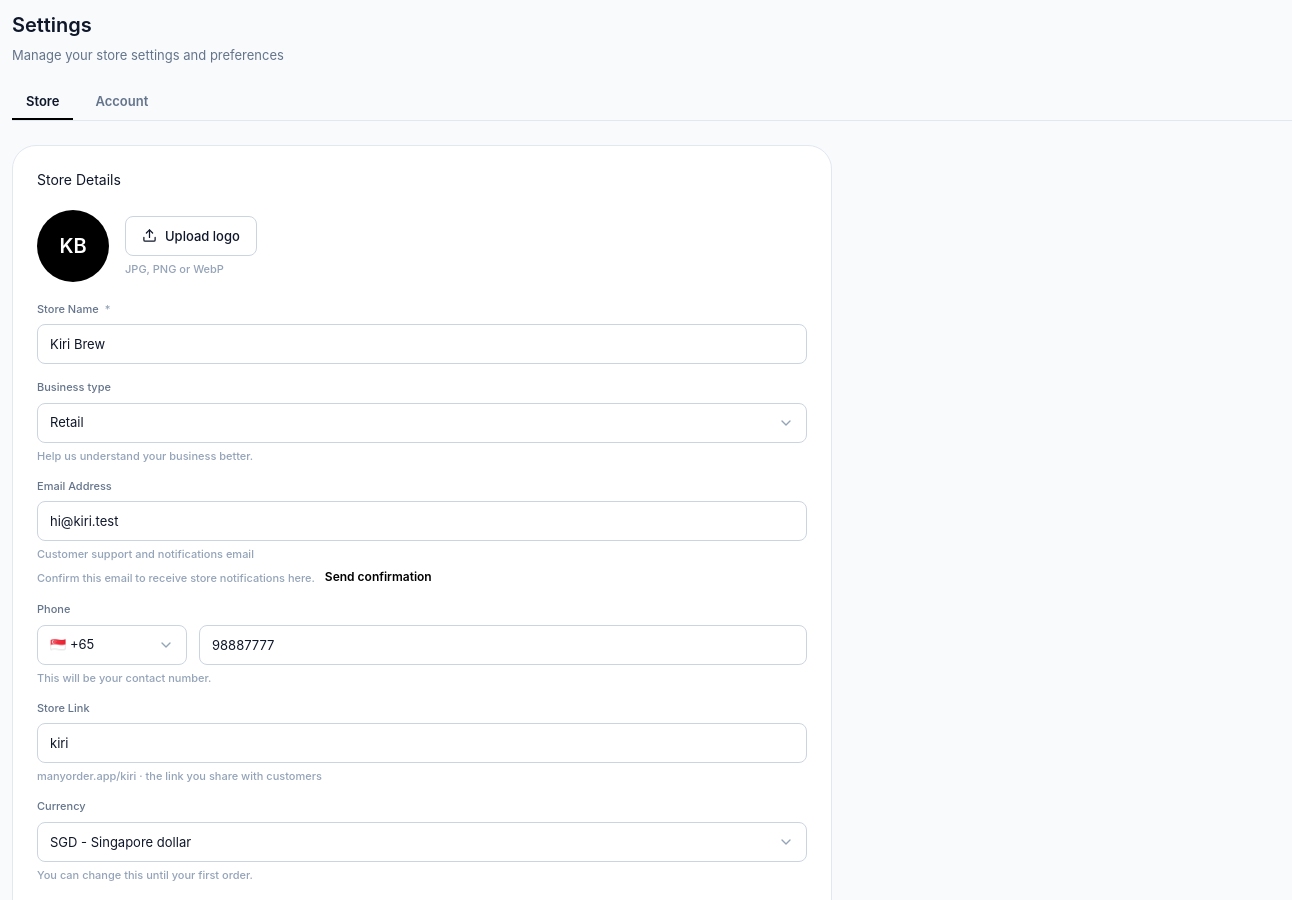
Settings store fields › store email: not verified prompts to confirm, then shows sent copy with a resend countdown
The image size is (1292, 900).
Expected: the field showing "Kiri Brew" below "Store Name" is shown, 37,324 -> 807,364
Expected: the text "Confirm this email to receive store notifications here." is shown, 37,571 -> 315,585
Click the button "Send confirmation" at (378, 578), box 325,570 -> 432,586
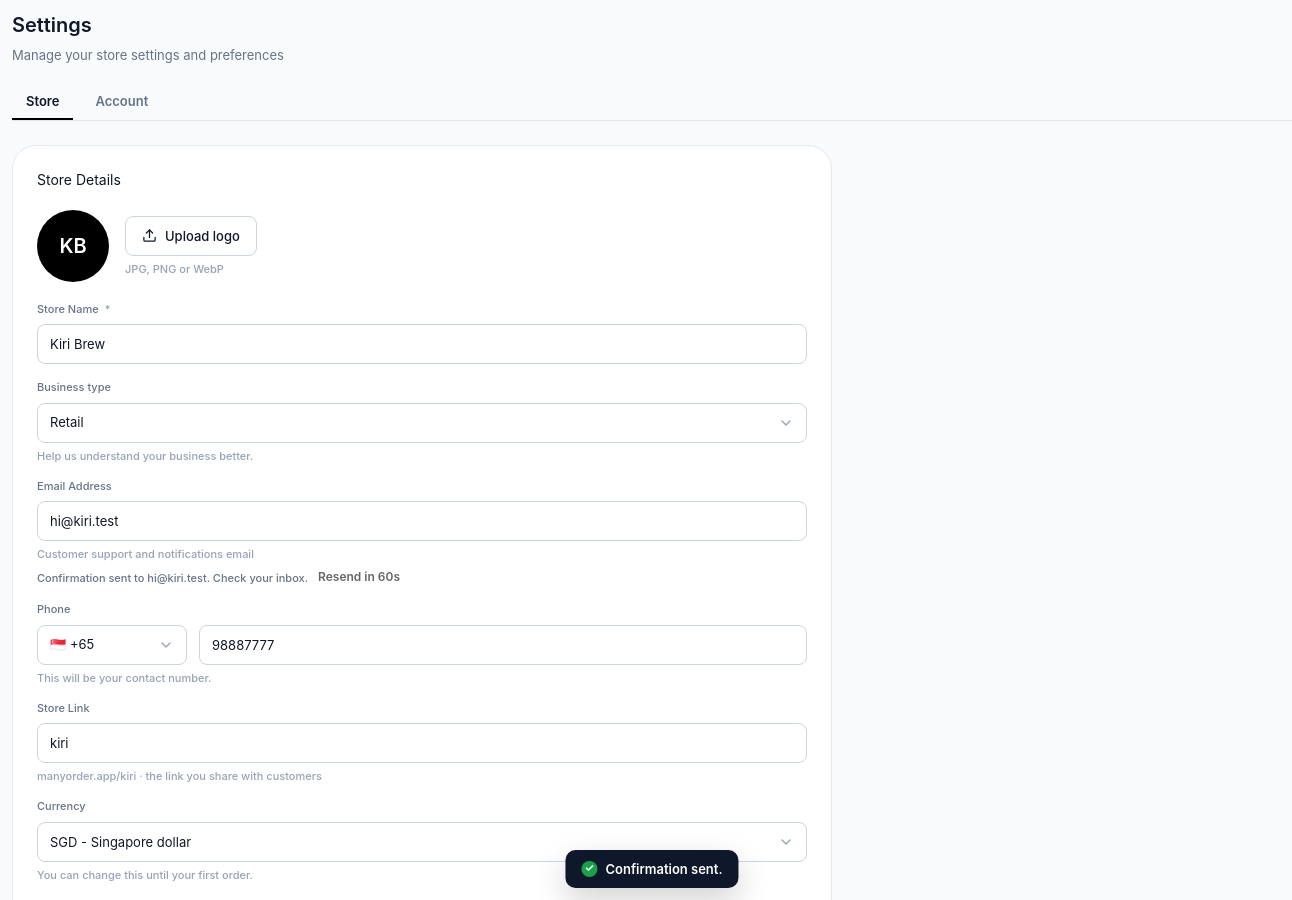
Expected: the text "Confirmation sent to hi@kiri.test. Check your inbox." is shown, 37,571 -> 308,585
Expected: the button "Resend in 60s" is disabled, 318,570 -> 400,586
